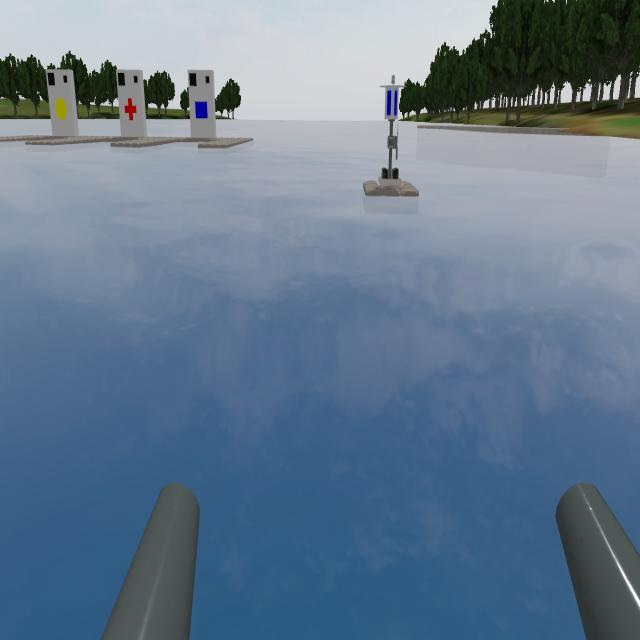blue_pole: (379, 73, 406, 131)
